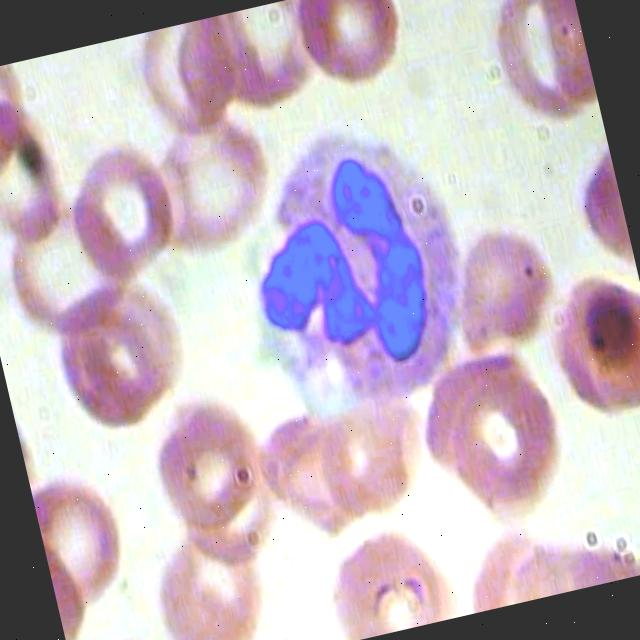RBC: (409, 350, 583, 527), (55, 132, 192, 296), (315, 502, 462, 640), (130, 510, 284, 640), (28, 458, 148, 618), (443, 220, 561, 364), (290, 0, 423, 95)
WBC: (212, 100, 496, 436)
